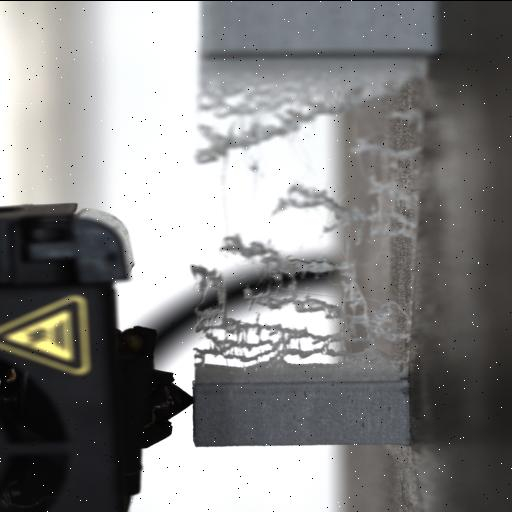stringing: (194, 70, 422, 166), (263, 178, 416, 244), (193, 314, 361, 367)
